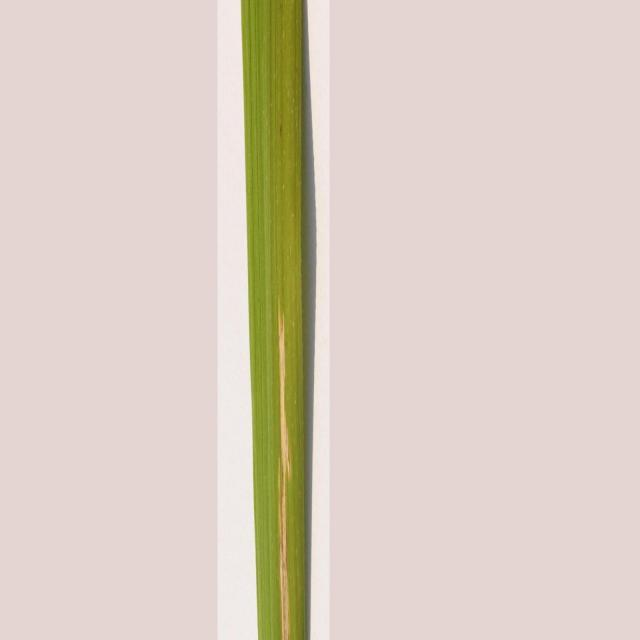leaf blight: (256, 305, 315, 639)
